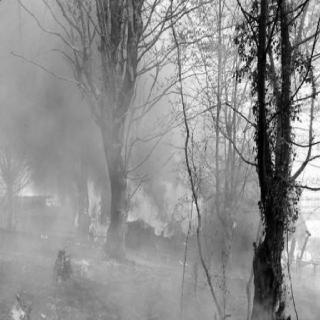Fire: (68, 147, 225, 265)
